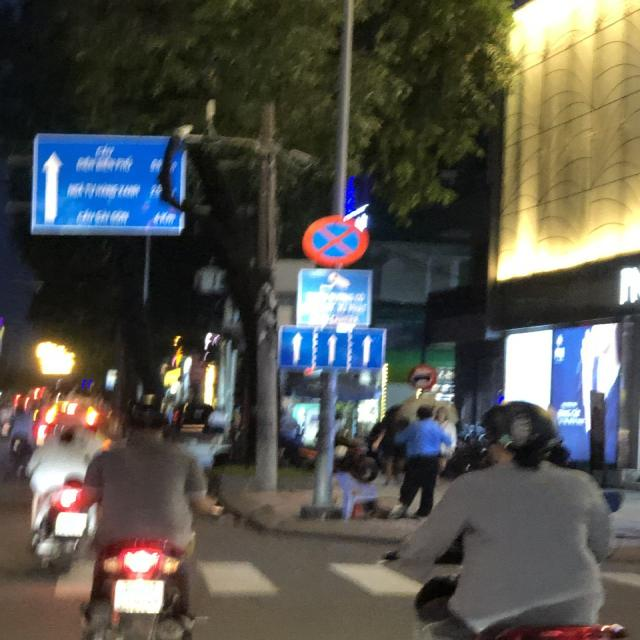Bien bao cam dung xe va do xe: (301, 209, 373, 267)
